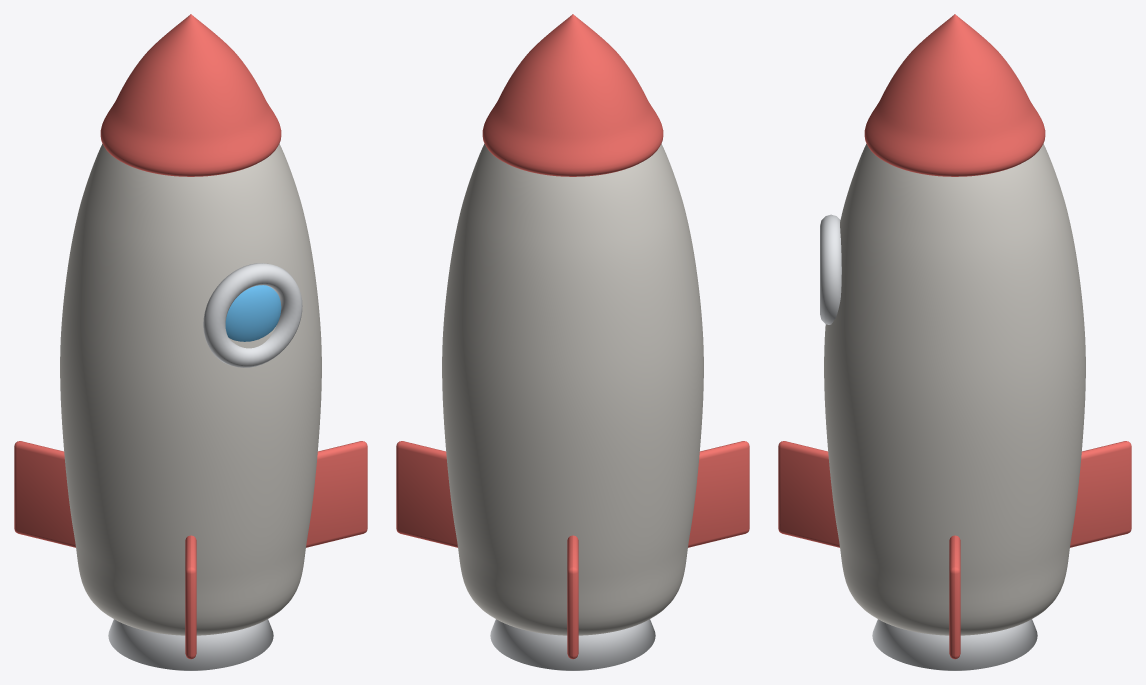
File: rocket.glb
The picture shows the model from 3 angles, left to right: view 1: azimuth 30°, elevation 25°; view 2: azimuth 150°, elevation 25°; view 3: azimuth 270°, elevation 25°; orthographic projection.
Visible parts, largest first — view 1: Body, Nose, Torus, Nozzle, Cube, Cube.001, Sphere, Cube.002; view 2: Body, Nose, Nozzle, Cube, Cube.002, Cube.001; view 3: Body, Nose, Nozzle, Cube.001, Cube.002, Torus, Cube.
Boxes of the visible parts, bbox=[...] form: Body: bbox=[60, 144, 321, 635]; Nose: bbox=[100, 14, 281, 176]; Torus: bbox=[203, 263, 302, 367]; Nozzle: bbox=[108, 619, 273, 670]; Cube: bbox=[306, 441, 367, 547]; Cube.001: bbox=[14, 441, 75, 547]; Sphere: bbox=[225, 285, 281, 341]; Cube.002: bbox=[185, 535, 196, 659]; Body: bbox=[442, 144, 703, 635]; Nose: bbox=[482, 14, 663, 176]; Nozzle: bbox=[490, 619, 655, 670]; Cube: bbox=[396, 441, 457, 547]; Cube.002: bbox=[688, 441, 749, 547]; Cube.001: bbox=[567, 535, 578, 659]; Body: bbox=[824, 144, 1085, 635]; Nose: bbox=[864, 14, 1045, 176]; Nozzle: bbox=[872, 619, 1037, 670]; Cube.001: bbox=[1070, 441, 1131, 547]; Cube.002: bbox=[778, 441, 839, 547]; Torus: bbox=[820, 214, 841, 324]; Cube: bbox=[949, 535, 960, 659].
Bounding box in the file's own units: 1.05 × 2.18 × 1.11.
